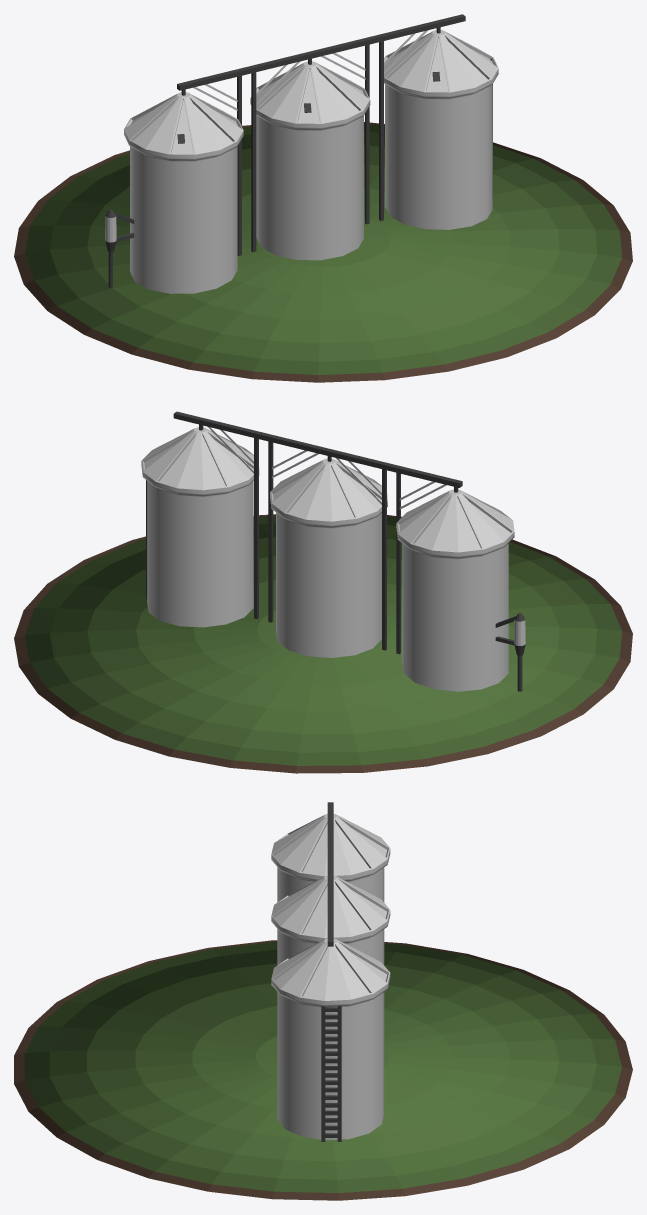
File: Silo_168.gltf
The picture shows the model from 3 angles, top to bottom: view 1: azimuth 30°, elevation 25°; view 2: azimuth 150°, elevation 25°; view 3: azimuth 270°, elevation 25°; orthographic projection.
Parts seen in each view (by area): view 1: node-0; view 2: node-0; view 3: node-0.
Part boxes in pixels (x1=…): node-0: x1=14, y1=14, x2=632, y2=382; node-0: x1=14, y1=411, x2=632, y2=773; node-0: x1=14, y1=802, x2=632, y2=1200.
Size of the model in its own units: 116 by 40.96 by 116.
